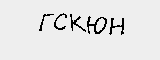Г: (36, 11, 55, 34)
К: (69, 11, 87, 34)
Н: (107, 15, 128, 36)
С: (52, 10, 69, 34)
Ю: (85, 14, 106, 36)
